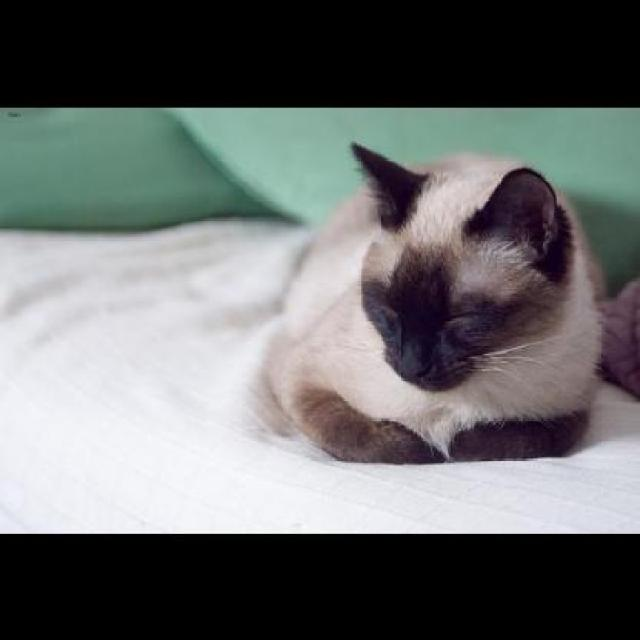unauthorized: (246, 138, 606, 464)
